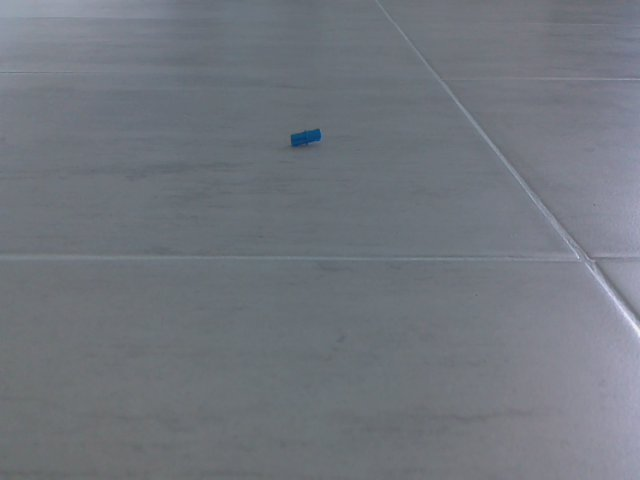Blau: (284, 121, 329, 151)
